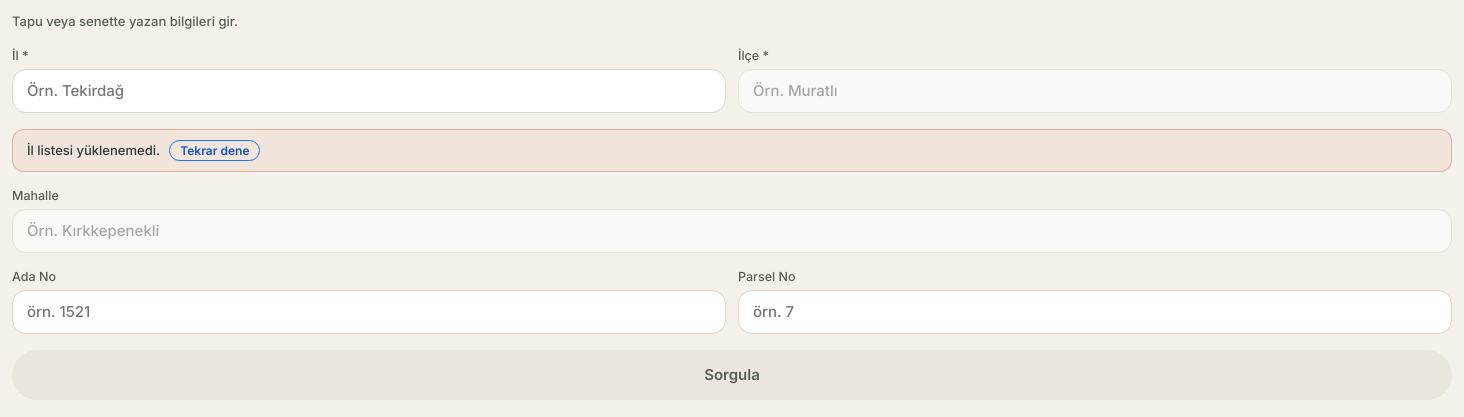
Test: ManualParcelEntryForm › il listesi yuklenemezse hata + tekrar dene gosterilir, tekrar denemede basarili olursa liste yuklenir
expect the text "İl listesi yüklenemedi. Tekrar dene" is shown: met, box [12, 128, 1452, 172]
expect the button "Sorgula" is disabled: met, box [12, 350, 1452, 400]
Click the button "Tekrar dene" at (215, 150), box [169, 140, 260, 160]
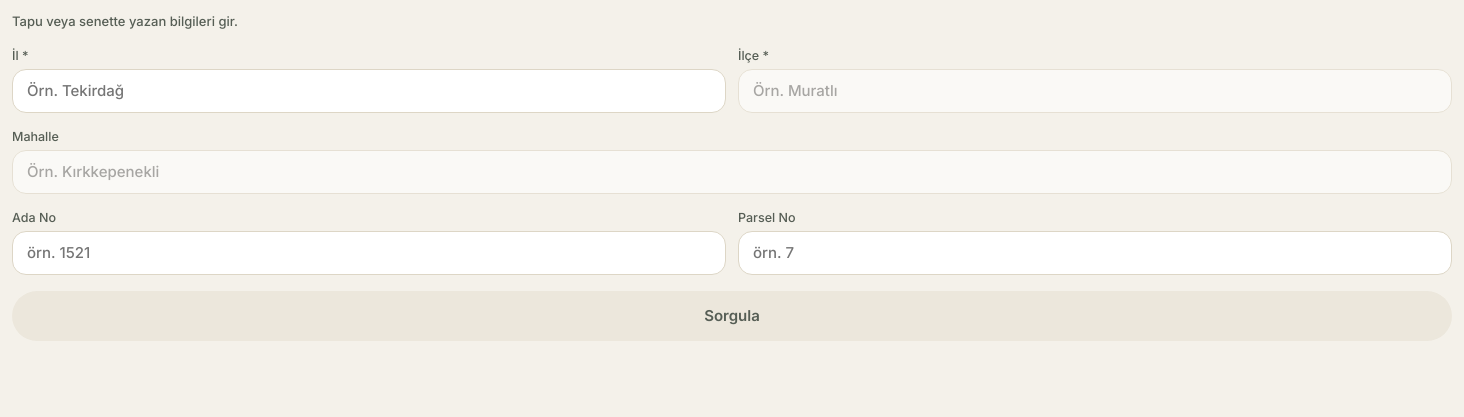
expect the text "İl listesi yüklenemedi" is gone: met
Type "Adana" into the dropdown labelled "İl *" at (369, 90), box [12, 68, 726, 112]
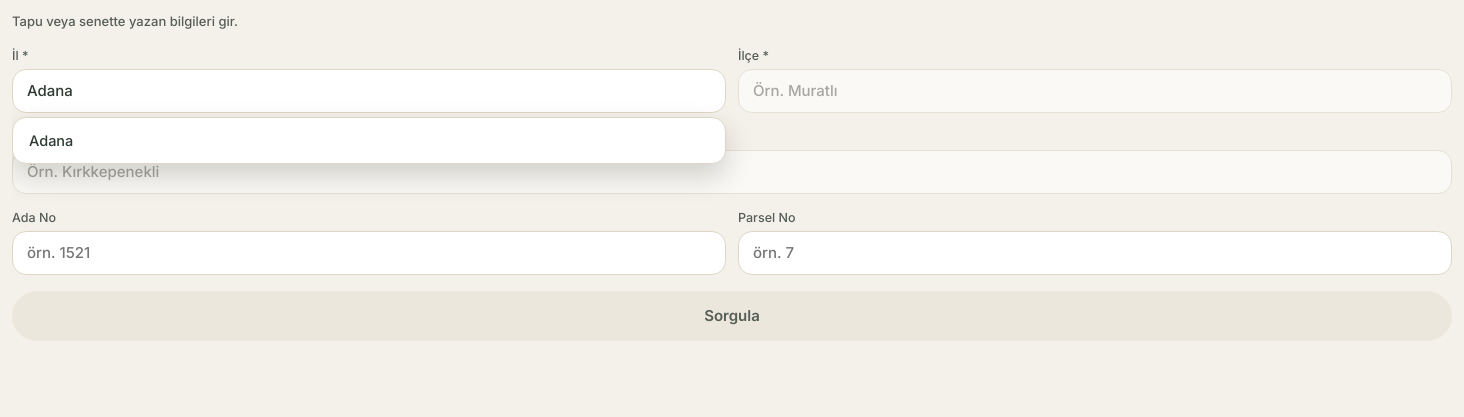
expect the option "Adana" is shown: met, box [29, 132, 73, 148]
